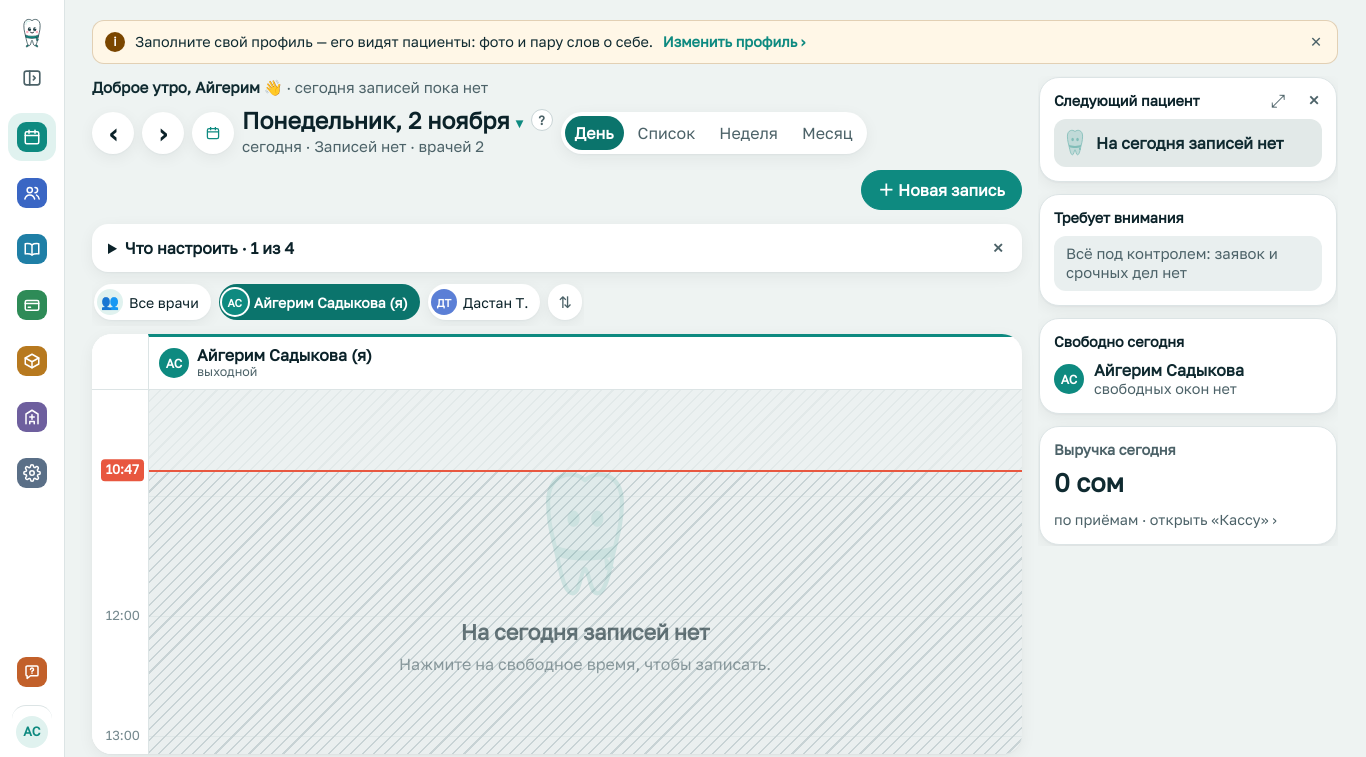
пришёл без записи: «⚡ Сейчас» в 10:47 — время 10:45, поле с шагом 5 минут не мешает отправить форму
The width and height of the screenshot is (1366, 757).
(page scrolled)
Click the button "＋ Новая запись" at [942, 190], box [861,170,1022,210]
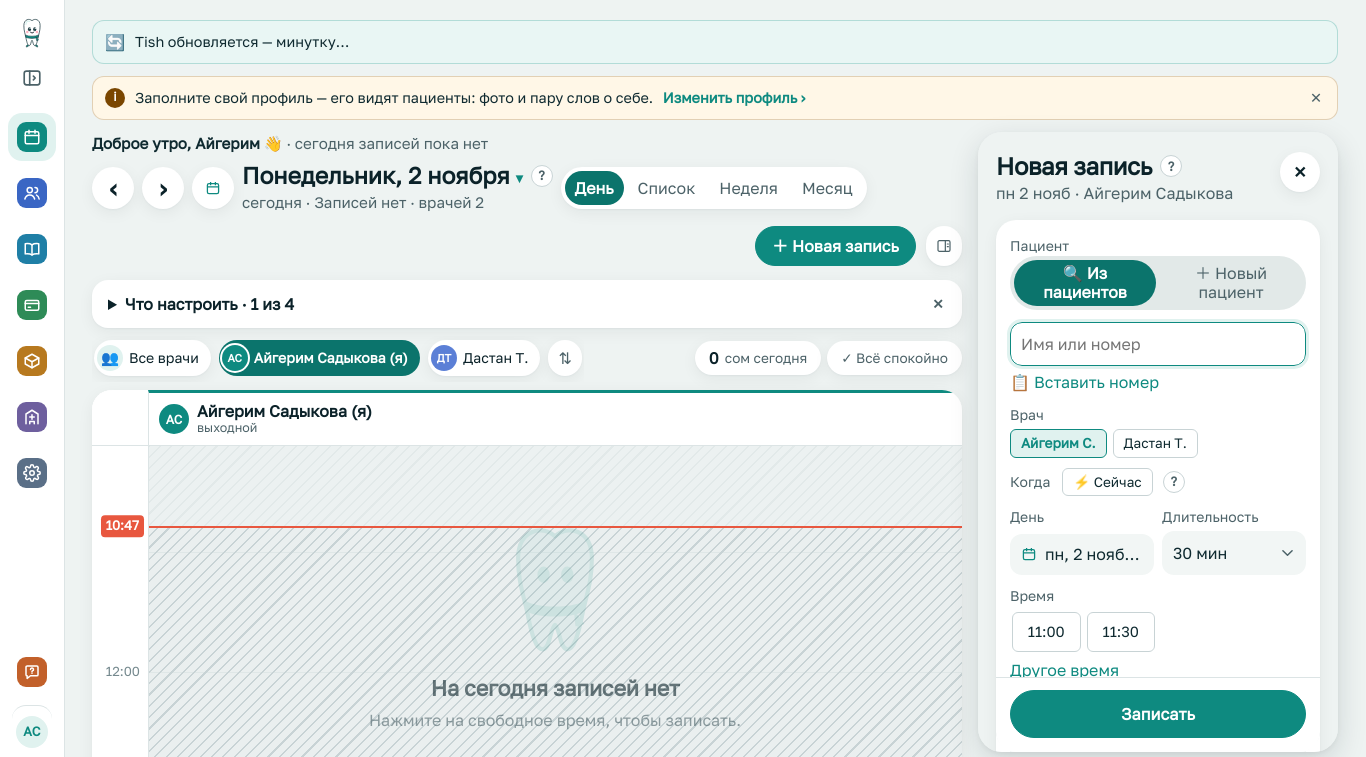
Click the button "⚡ Сейчас" at [1108, 481], box [1062,467,1153,496]
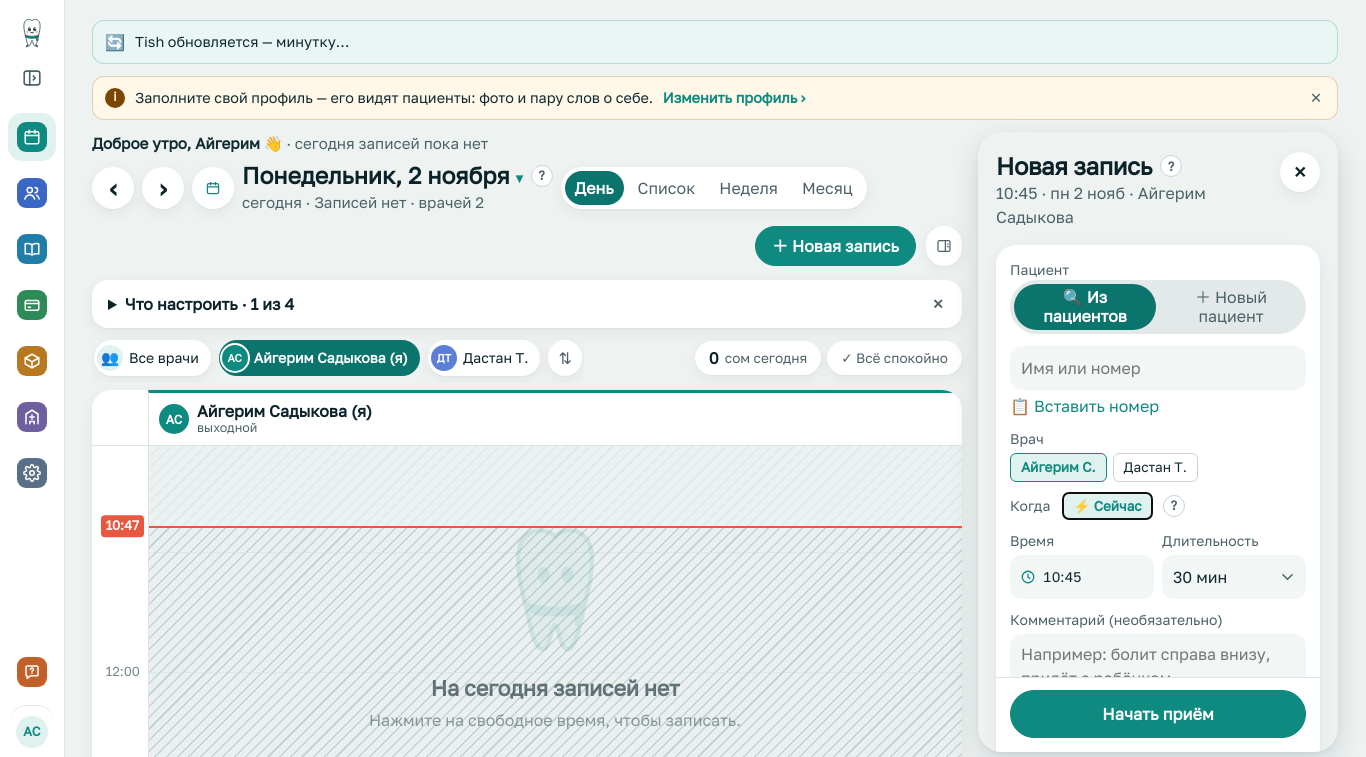
expect the button named "Подсказка: Сейчас" is shown: met, box [1163,494,1185,516]
expect the field labelled "Время" holds "10:45": met, box [1010,555,1154,599]
Type "Нур" into the search field named "Найти пациента" at [1158, 368], box [1010,346,1306,390]
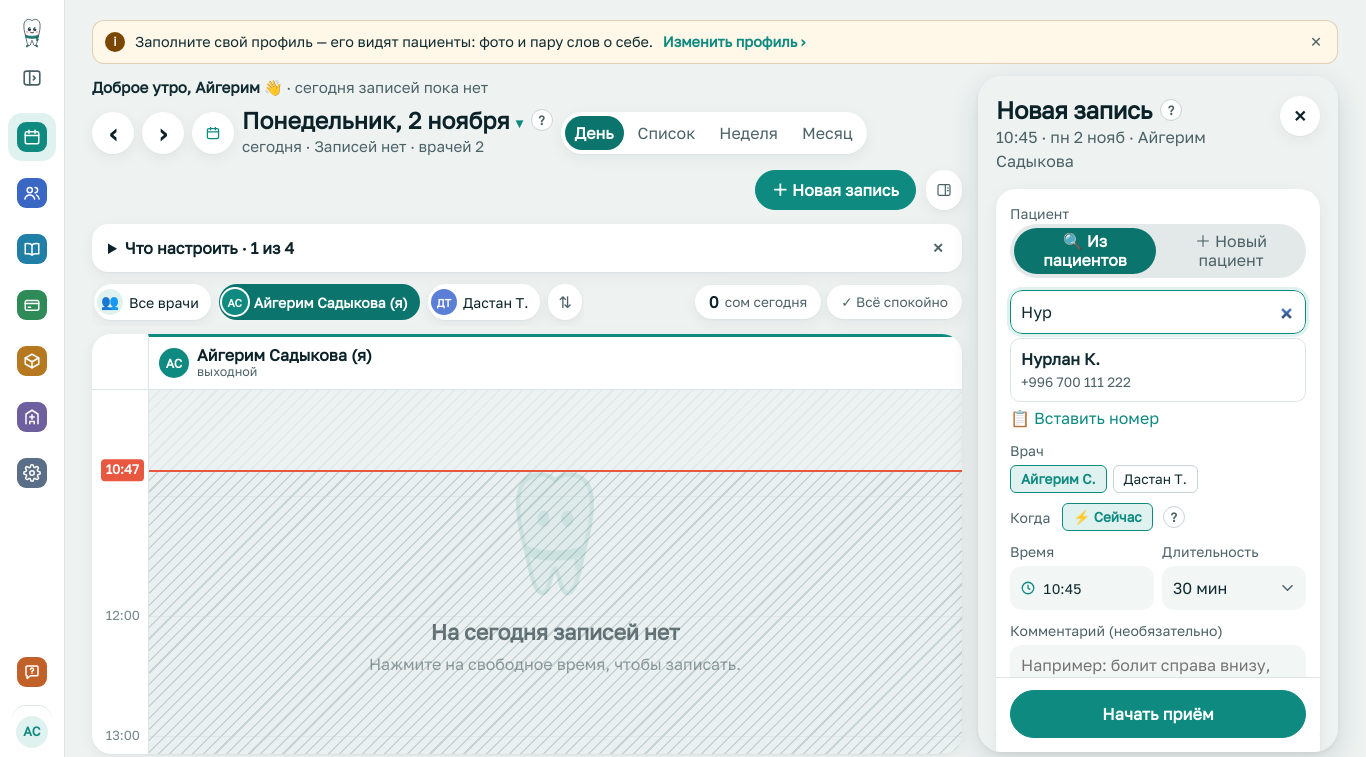
Click the button "Нурлан К. +996 700 111 222" at [1060, 359], box [1011,339,1305,401]
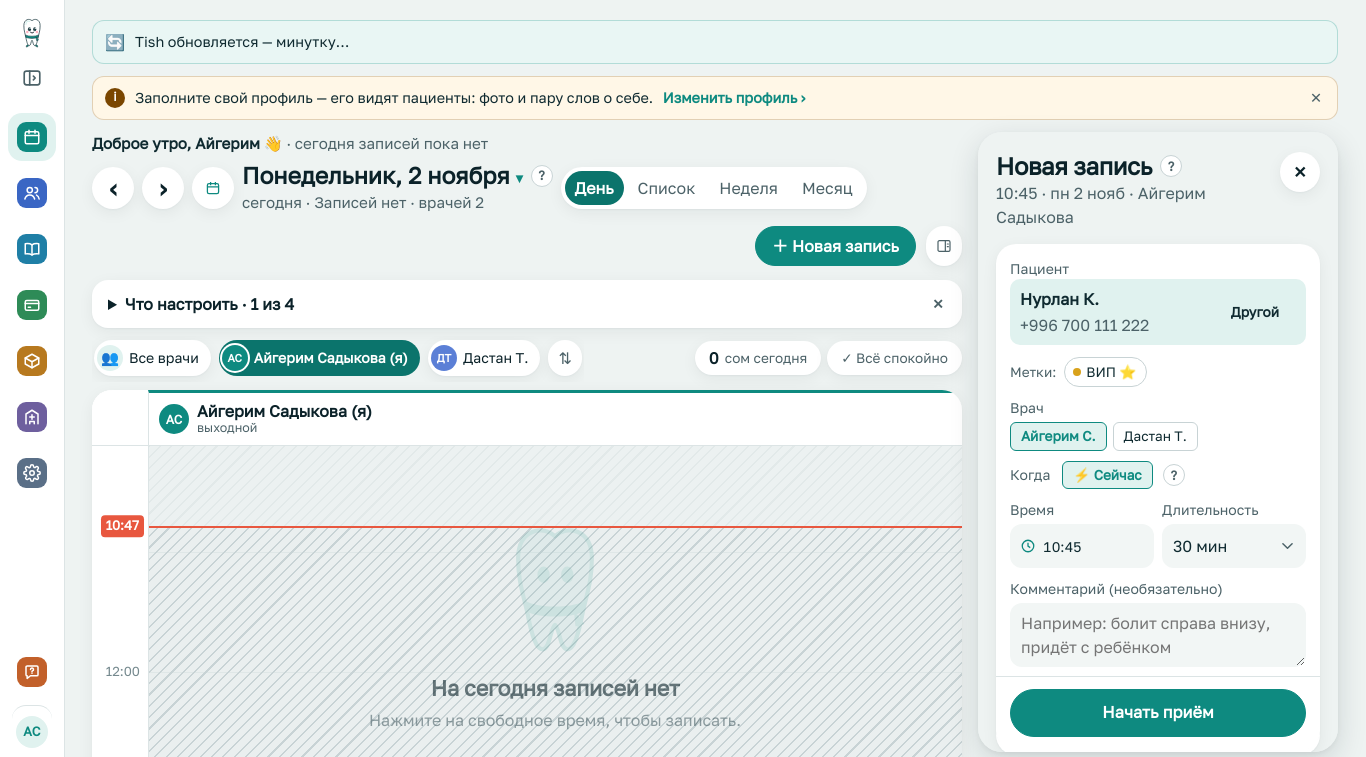
Click the button "Начать приём" at [1158, 714], box [1010,690,1306,738]
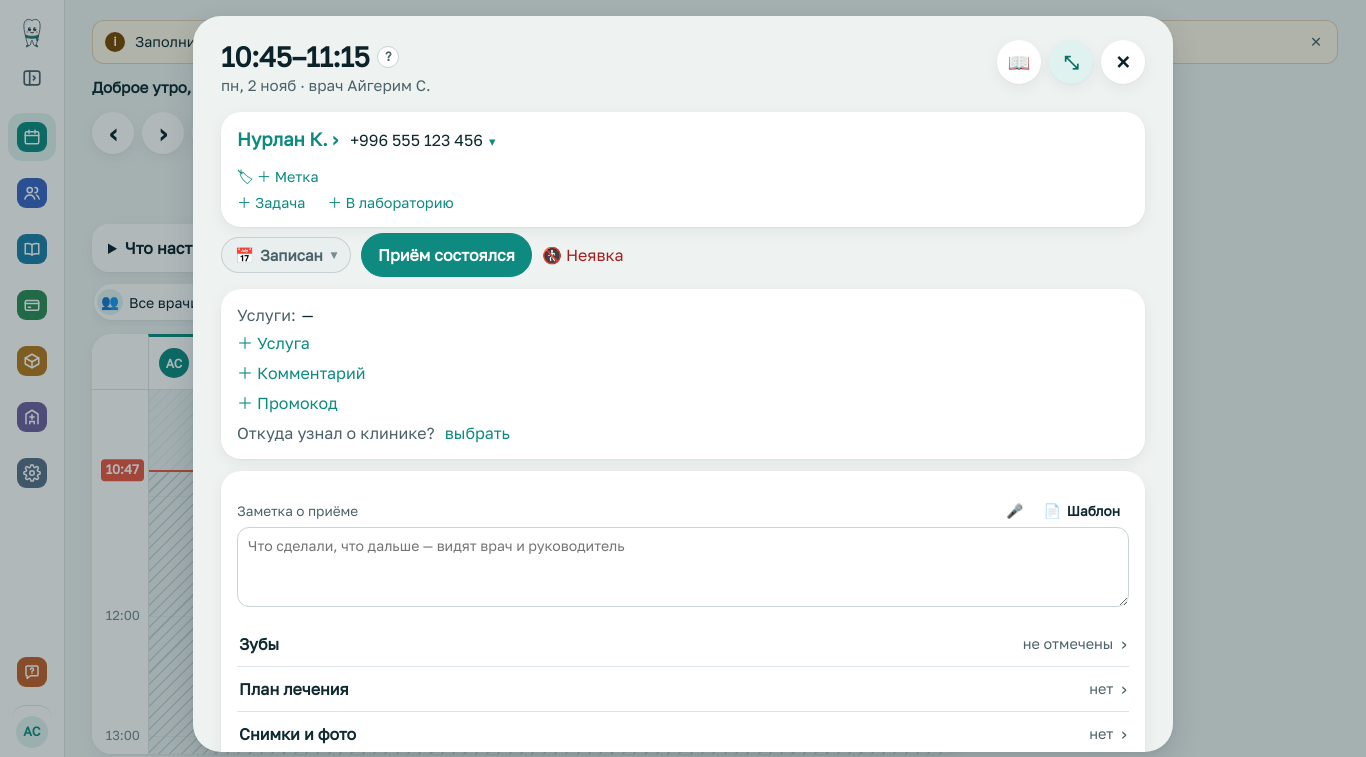
expect the element named "Карточка приёма" is shown: met
